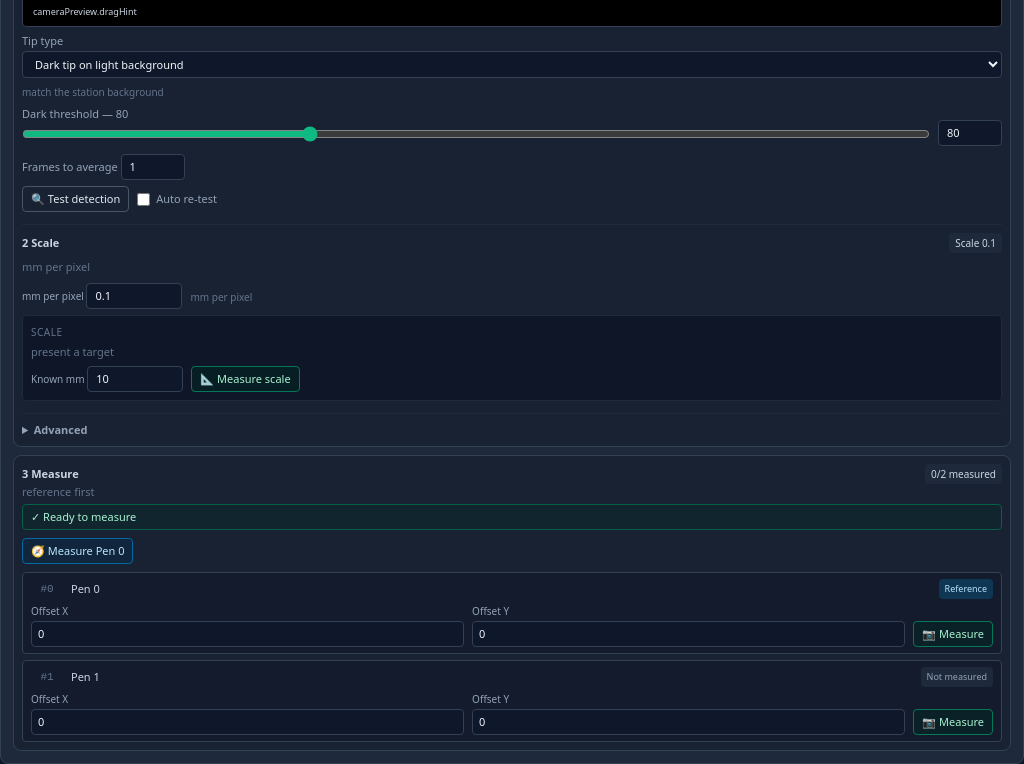
Scenario: OffsetCameraSettings › does not apply a low-confidence measurement
(page scrolled)
Click the button with test id "pen-measure-1".
click(953, 722)  # box [913,709,993,735]
(page scrolled)
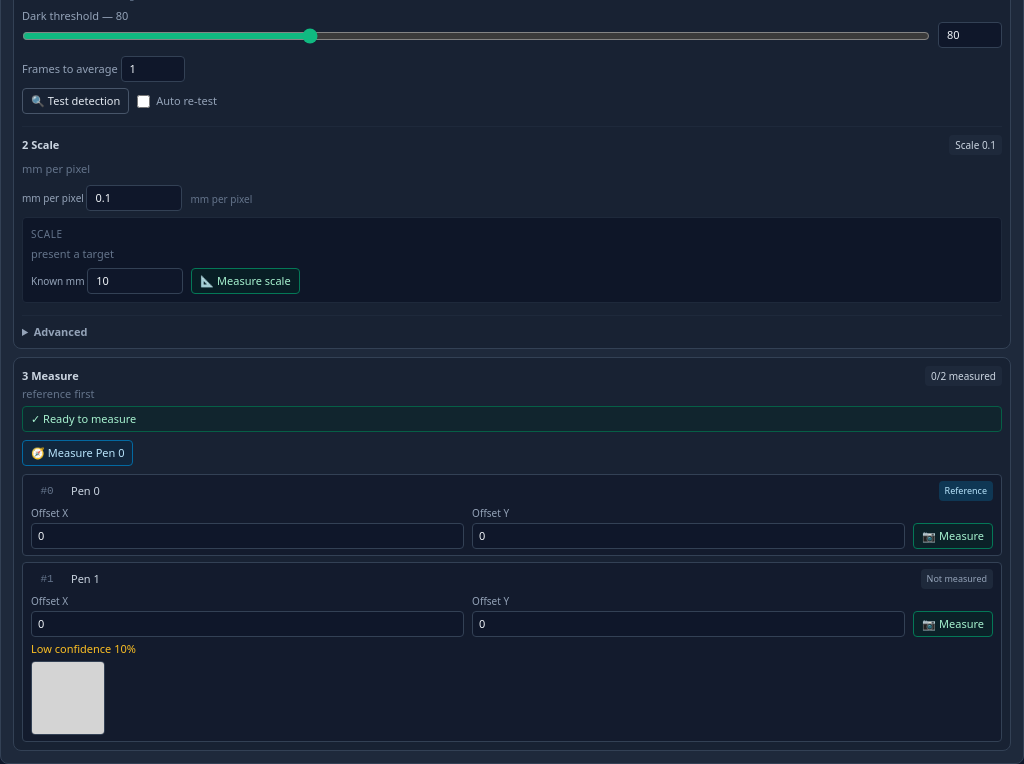
Check: the text with test id "pen-measure-msg-1" shows "Low confidence", box [31,641,136,656]
